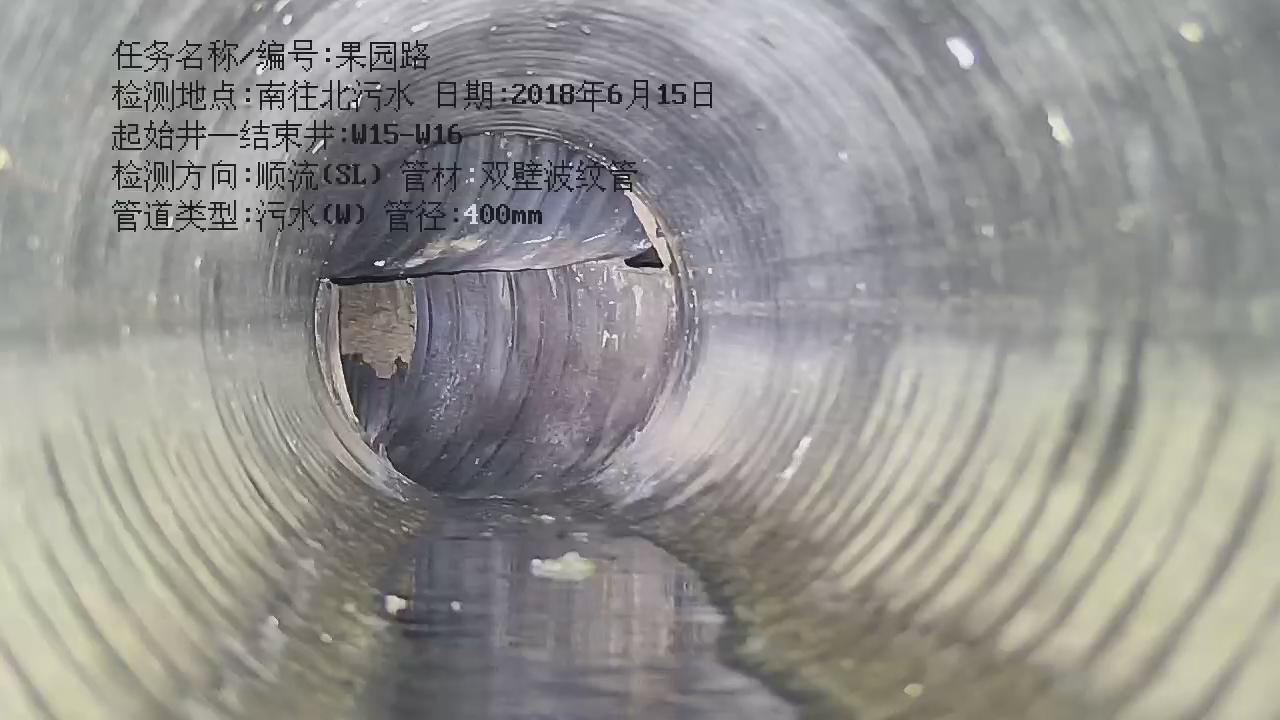YWCR: (307, 130, 653, 283)
